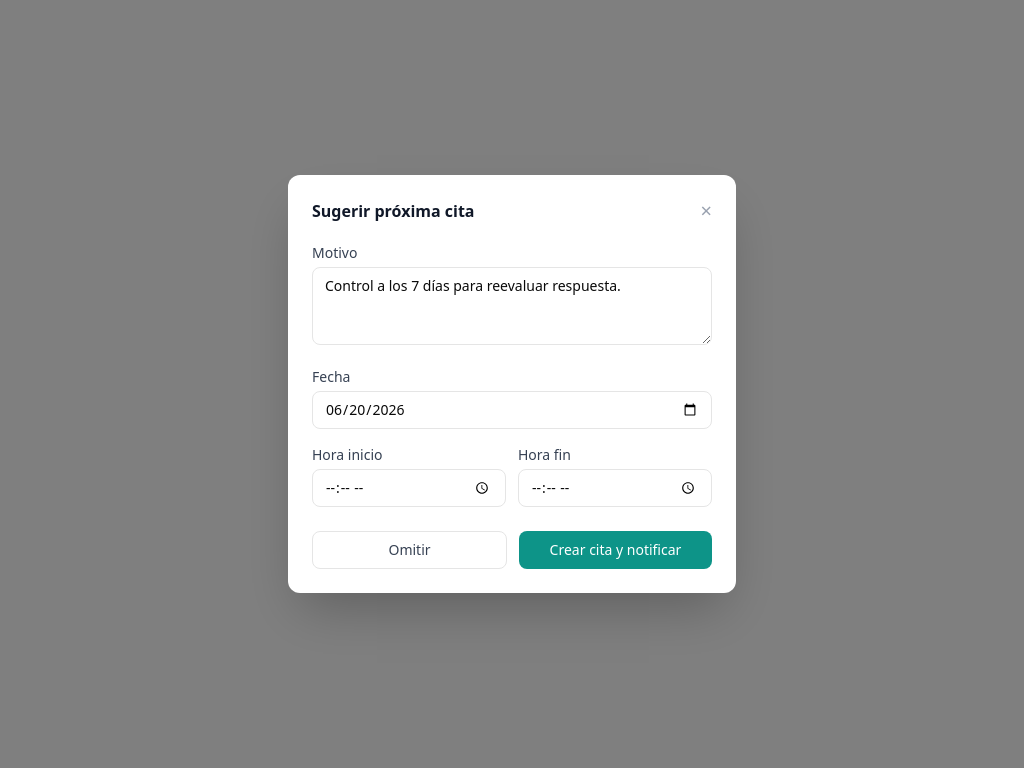
Scenario: AppointmentSuggestionModal › muestra error y NO cierra el modal cuando la API falla
Type "10:00" into the time field labelled "Hora inicio" at (409, 488), box [312,469,506,507]
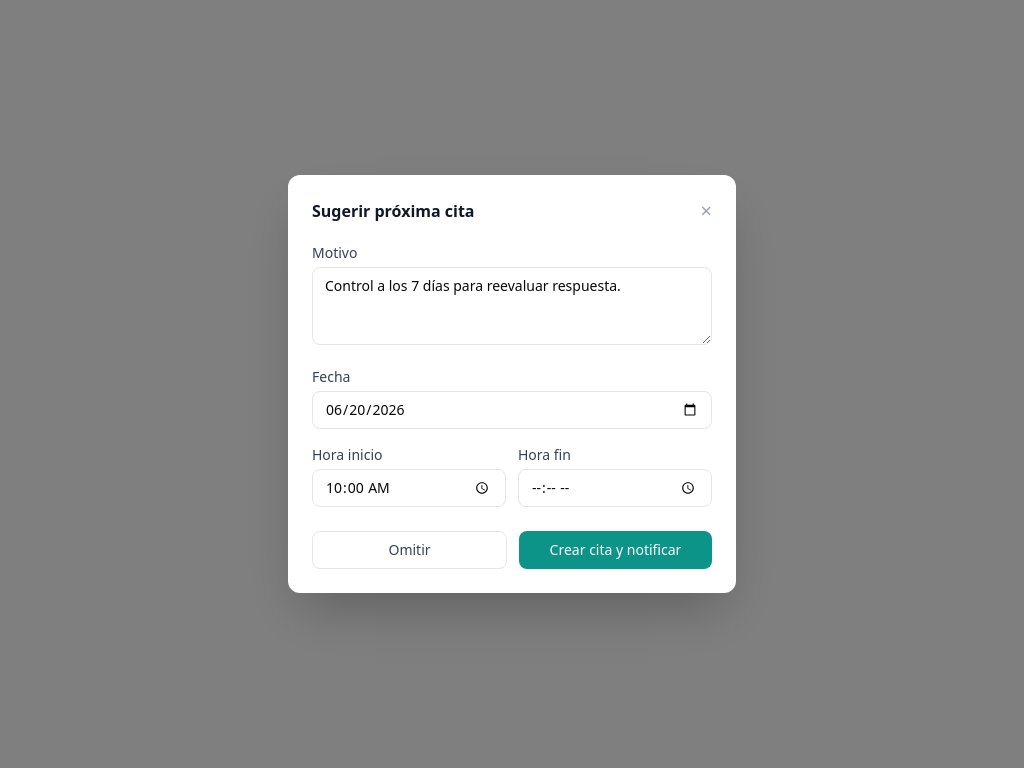
Type "10:30" into the time field labelled "Hora fin" at (615, 488), box [518,469,712,507]
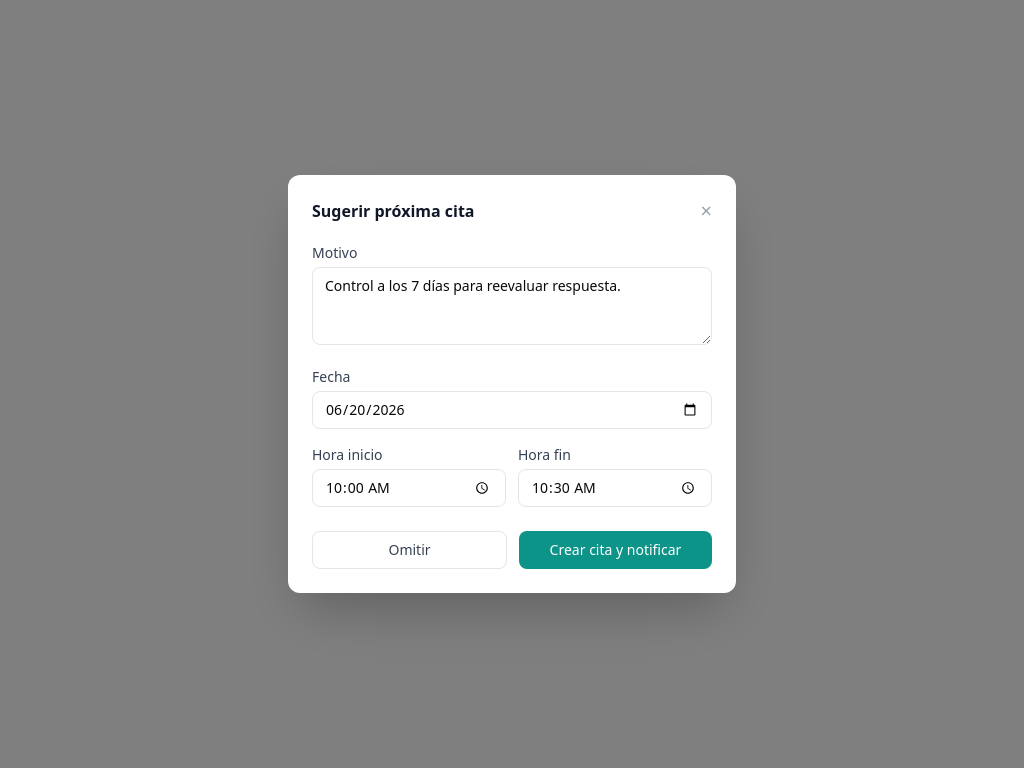
Click the button "Crear cita y notificar" at (616, 550), box [519,531,712,569]
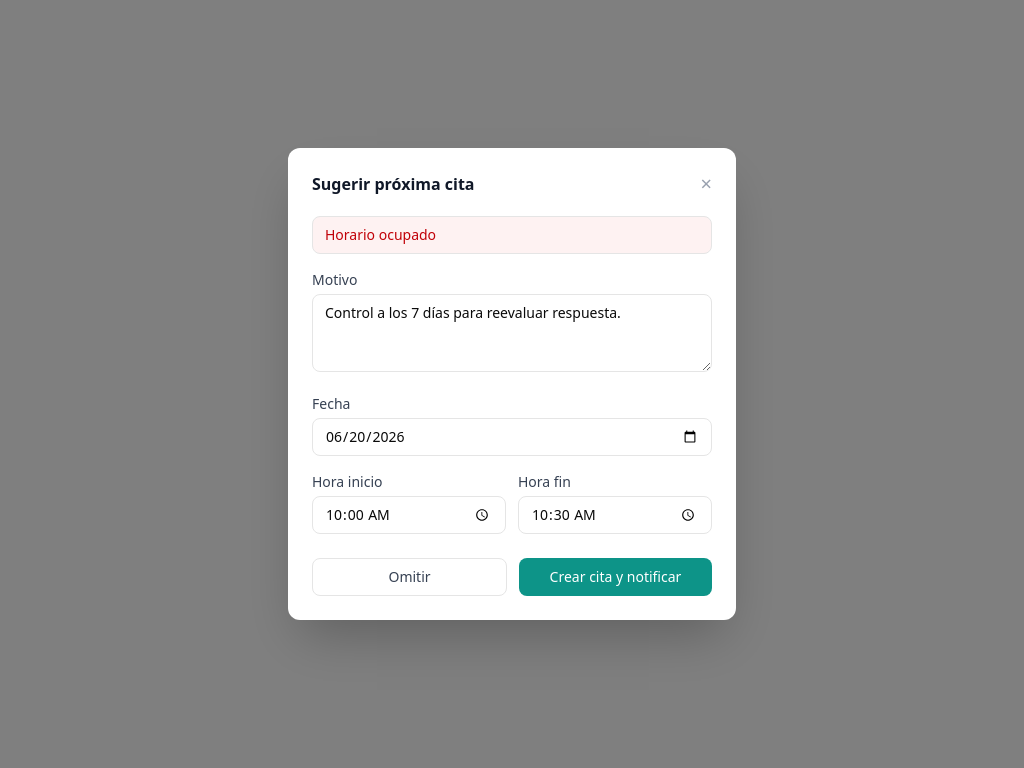
Result: the text "Horario ocupado" is shown at [312,216,712,254]
